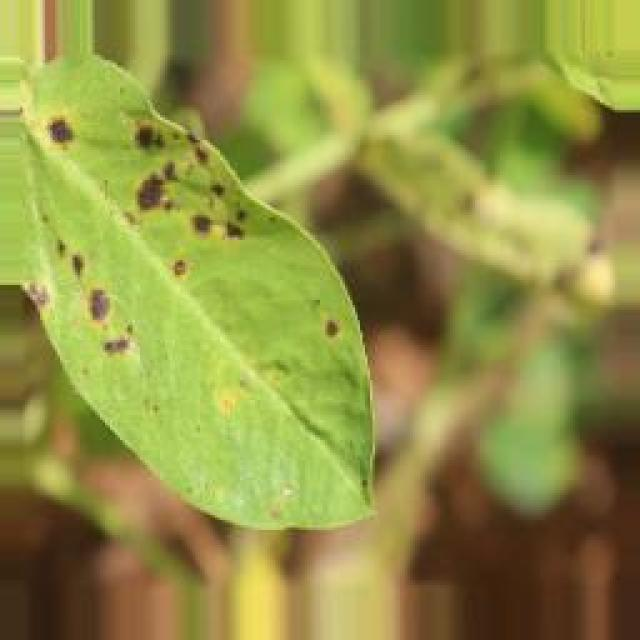Yellowish: (0, 27, 357, 385)
